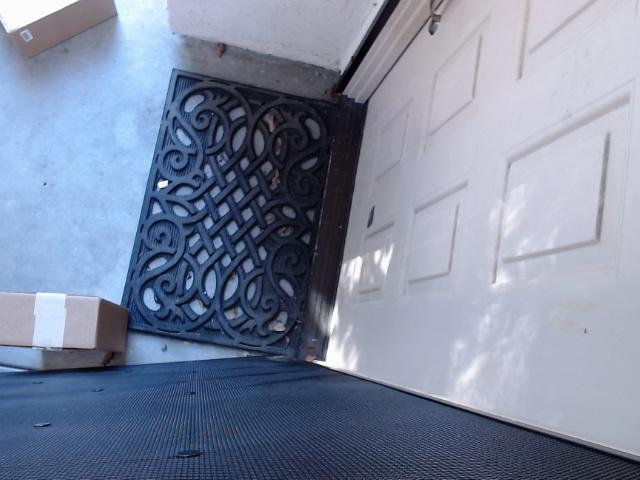box: (0, 265, 160, 365), (0, 0, 145, 56)
